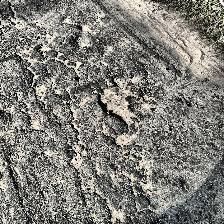pothole: (96, 88, 138, 124), (114, 132, 134, 146)
